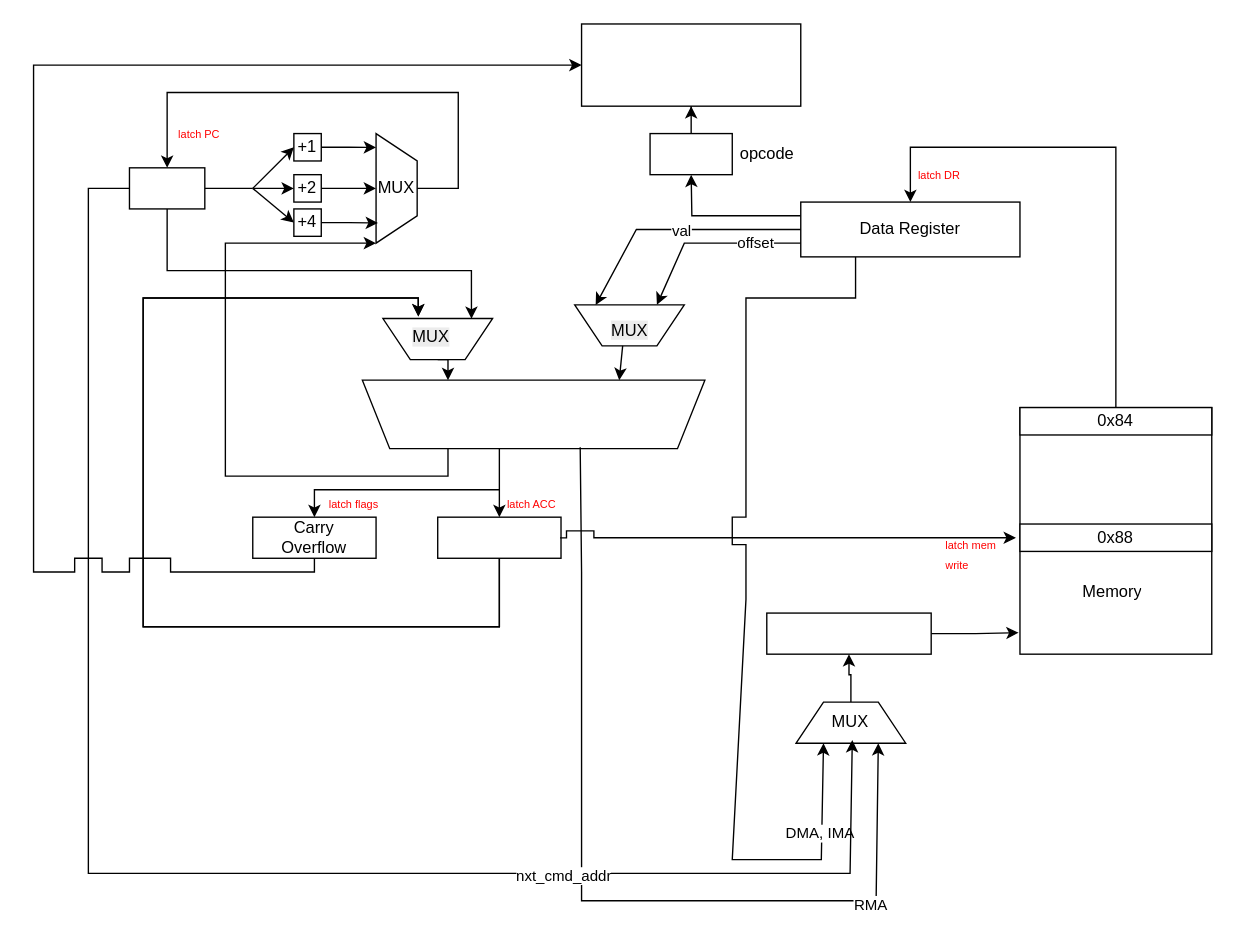
Image size: 1236x937. Some labels were removed from this diagram. Each missing label, with the box of its shape:
&FF00: (649, 132, 732, 175)
ACC: (436, 516, 561, 558)
Address decoder: (765, 612, 931, 654)
Control Unit: (580, 23, 801, 106)
PC: (128, 166, 205, 209)
АЛУ: (361, 379, 705, 449)
